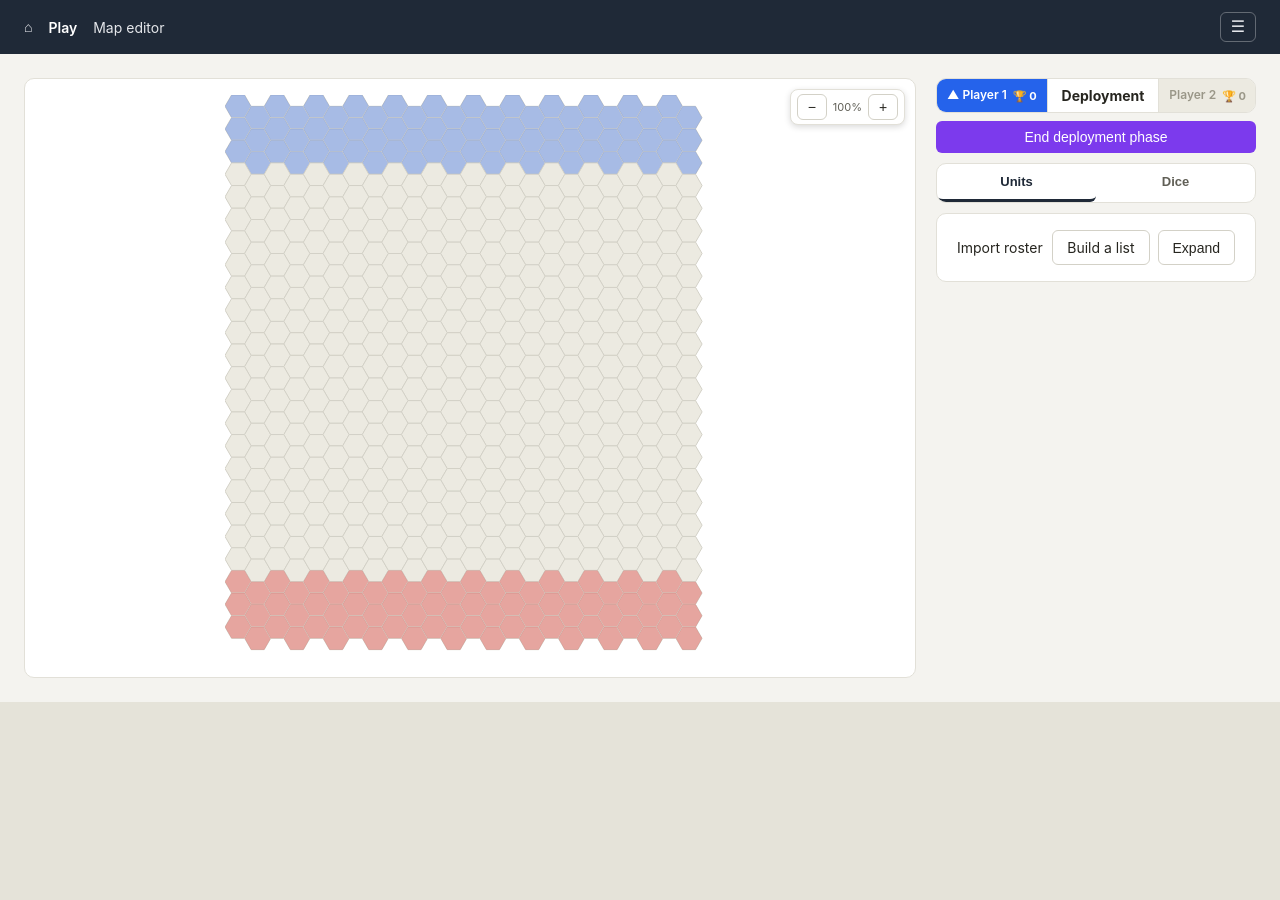
App › no longer portals the turn tracker into the top menu bar on desktop (#261)
This screenshot has width=1280, height=900.
What coordinates should you click on to do the following:
click the button "End deployment phase"
I would click on:
 (1096, 137)
Its box is [936, 121, 1256, 153].
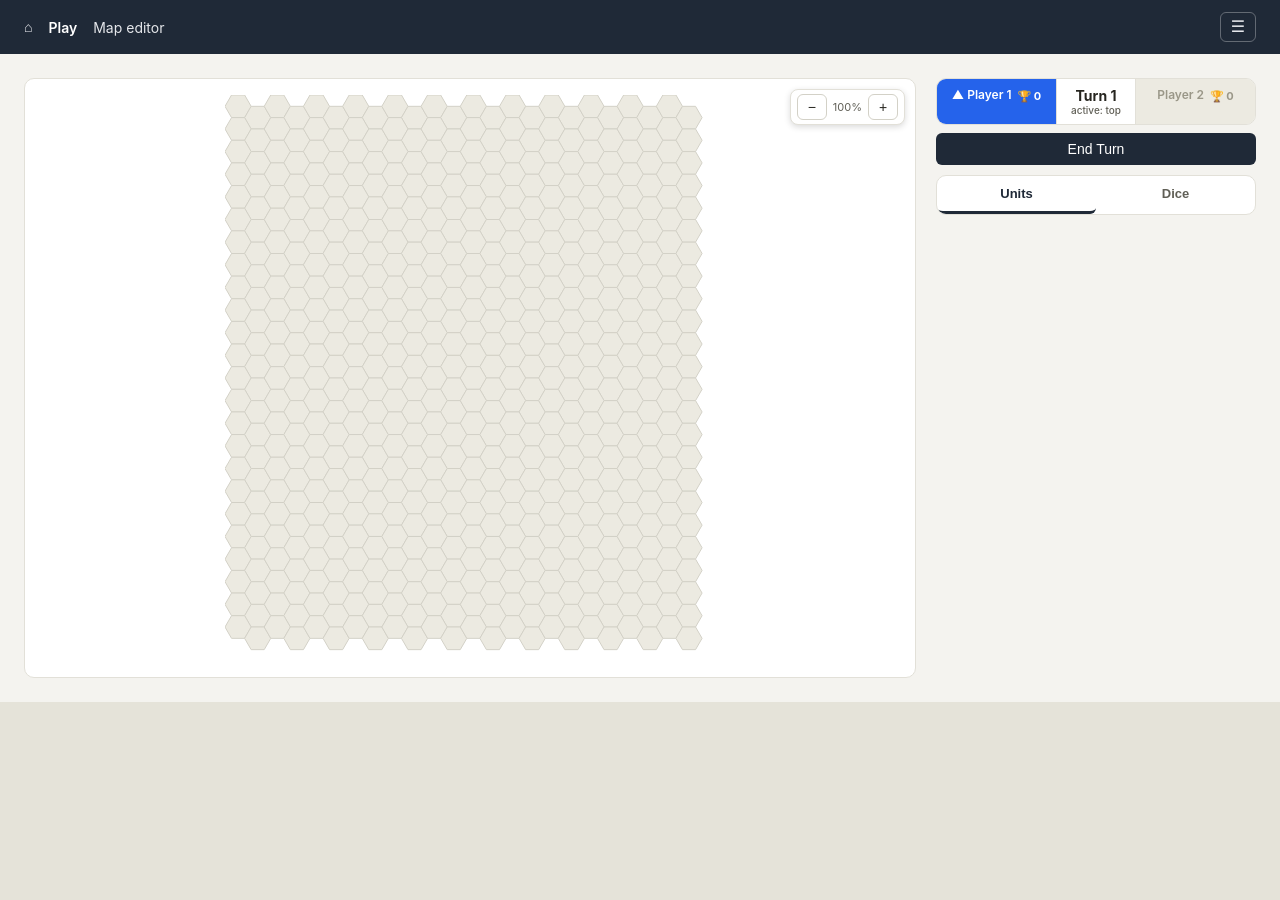
Expected: the button "End Turn" is shown, [936, 133, 1256, 165]
